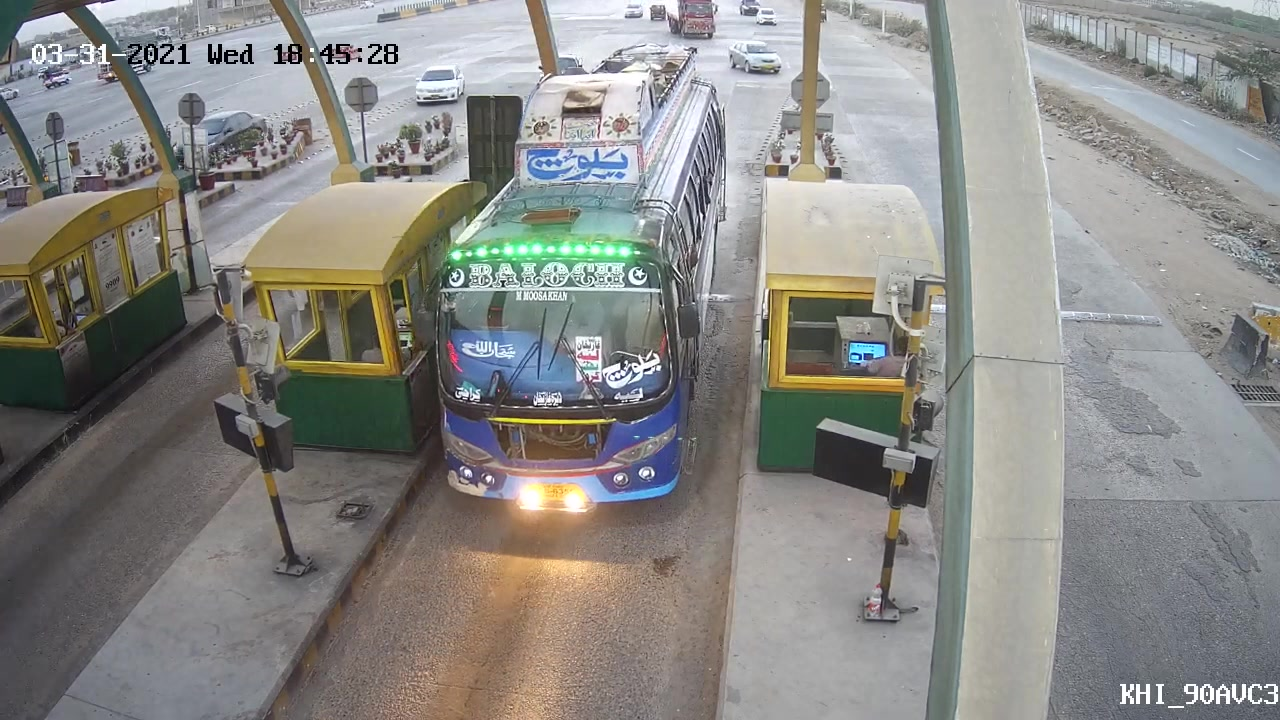F4: (429, 38, 736, 529)
